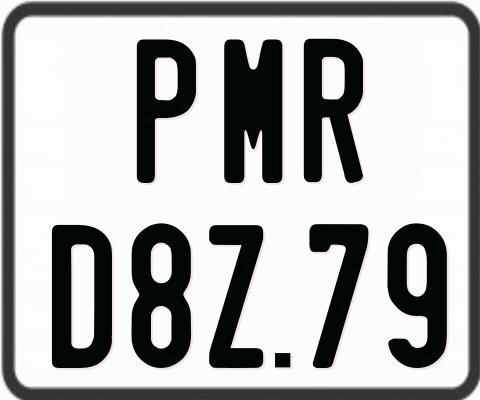7: (309, 222, 374, 368)
8: (131, 223, 195, 374)
9: (386, 222, 446, 373)
D: (52, 223, 112, 370)
M: (222, 36, 282, 186)
P: (136, 38, 197, 182)
R: (303, 36, 363, 183)
Z: (209, 223, 265, 369)
